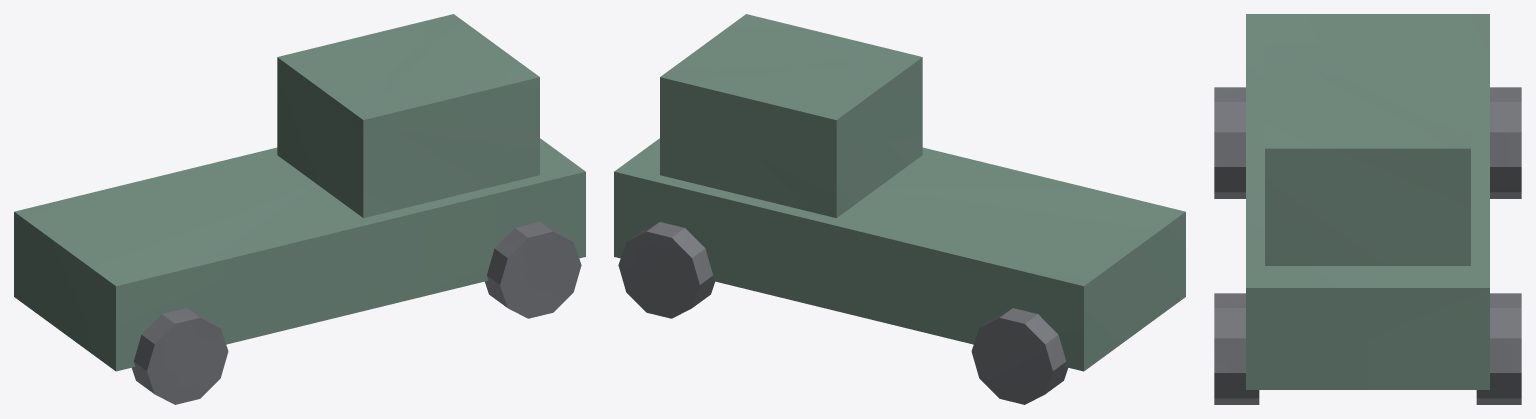
File: train-02.glb
3 renders of one model, left to right at view 1: azimuth 30°, elevation 25°; view 2: azimuth 150°, elevation 25°; view 3: azimuth 270°, elevation 25°, orthographic. The views are drawn at different scales.
Visible parts, largest first — view 1: world; view 2: world; view 3: world.
Part boxes in pixels (x1,y1,x2,y2): world: (14, 14, 585, 404); world: (614, 14, 1185, 404); world: (1214, 14, 1521, 404).
Size of the model in its own units: 1.73 by 0.7677 by 0.82.
